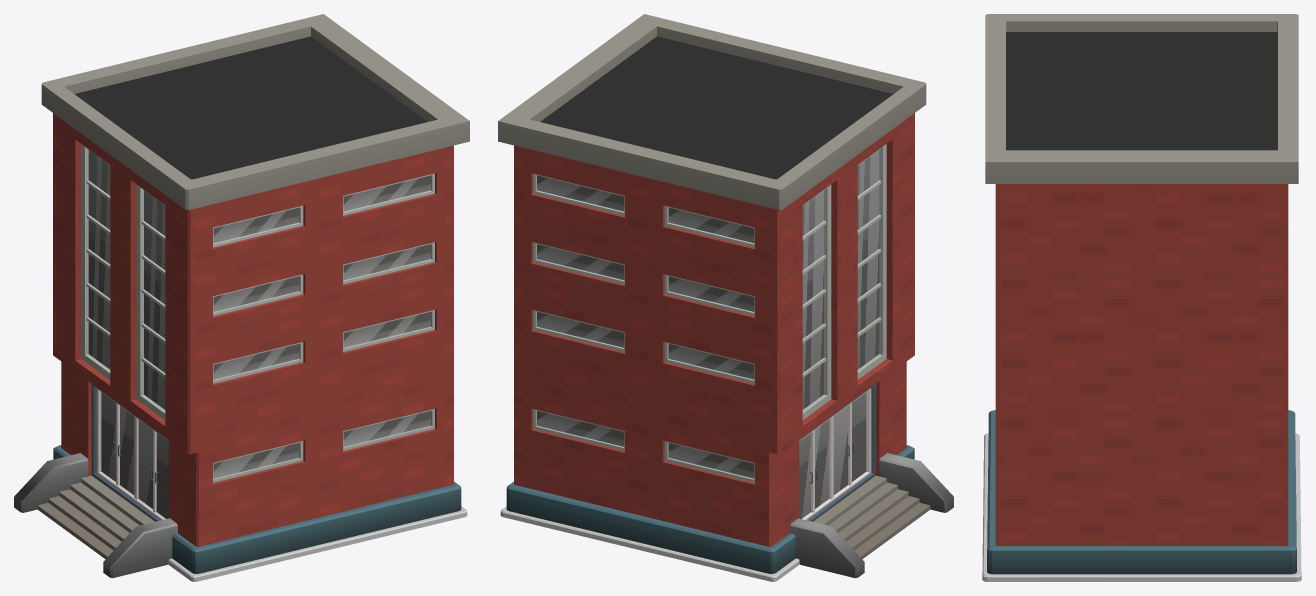
The model's file is Building_26_O_001.glb.
3 views of the same model, side by side, from view 1: azimuth 30°, elevation 25°; view 2: azimuth 150°, elevation 25°; view 3: azimuth 270°, elevation 25° (orthographic). The views are drawn at different scales.
Parts seen in each view (by area): view 1: Building_26_O.001; view 2: Building_26_O.001; view 3: Building_26_O.001.
Part boxes in pixels (x1,y1,x2,y2): Building_26_O.001: (14, 14, 469, 581); Building_26_O.001: (498, 14, 953, 581); Building_26_O.001: (982, 14, 1301, 581).
Bounding box in the file's own units: 9.23 × 10.37 × 7.12.
Materials: 4 (4 with a texture image).
